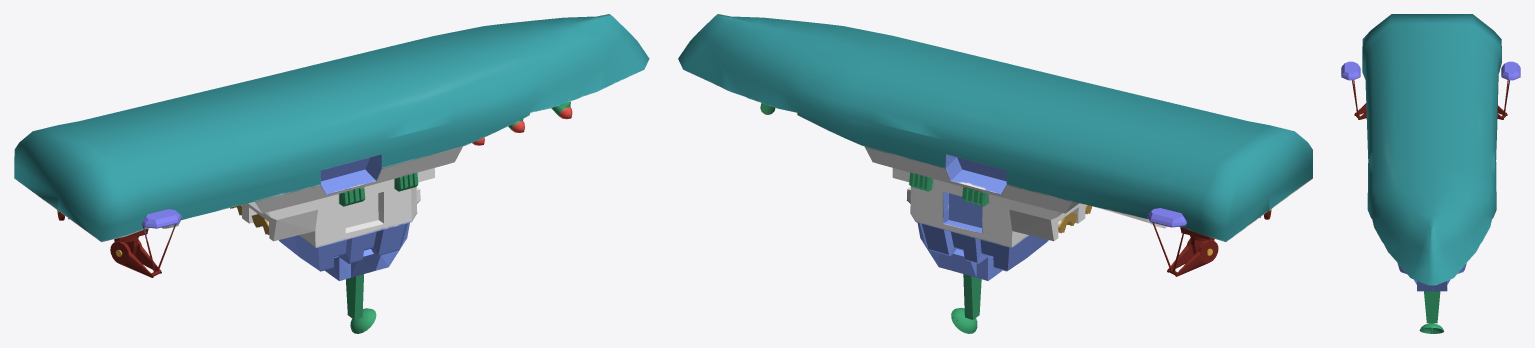
The model's file is Battleship.fbx.
3 views of the same model, side by side, from view 1: azimuth 30°, elevation 25°; view 2: azimuth 150°, elevation 25°; view 3: azimuth 270°, elevation 25° (orthographic). The views are drawn at different scales.
Parts seen in each view (by area): view 1: Object004; view 2: Object004; view 3: Object004.
Boxes of the visible parts, x1=… form: Object004: x1=14, y1=14, x2=649, y2=333; Object004: x1=678, y1=14, x2=1312, y2=333; Object004: x1=1341, y1=14, x2=1520, y2=333.
Bounding box in the file's own units: 188 × 77.84 × 61.97.
Materials: 1 (1 with a texture image).
